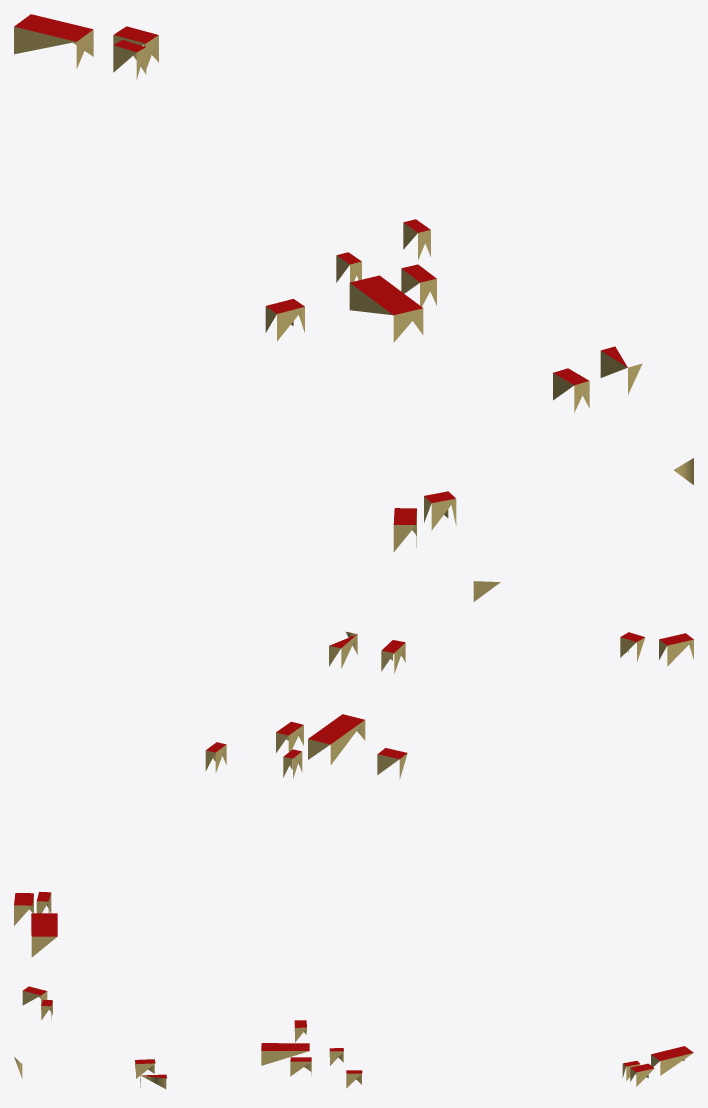
The picture shows the model from 3 angles, top to bottom: view 1: azimuth 30°, elevation 25°; view 2: azimuth 150°, elevation 25°; view 3: azimuth 270°, elevation 25°; orthographic projection. The views are drawn at different scales.
Size of the model in its own units: 99.81 by 7.5 by 308.
